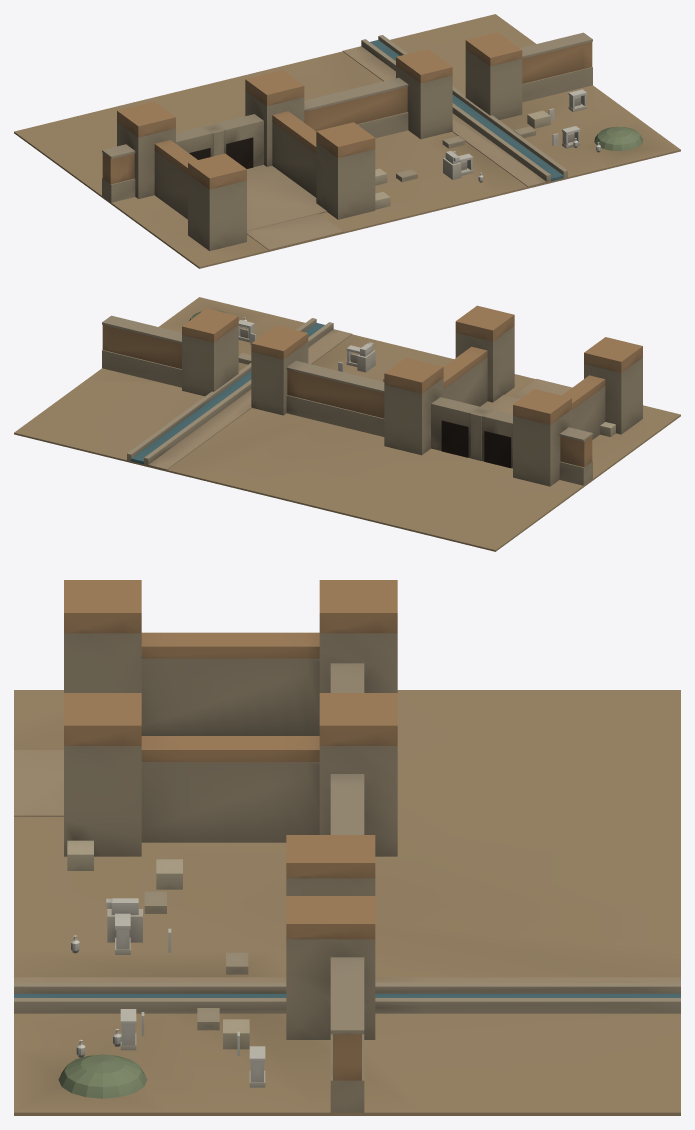
File: dipylon-430.glb
3 views of the same model, one above another, from view 1: azimuth 30°, elevation 25°; view 2: azimuth 150°, elevation 25°; view 3: azimuth 270°, elevation 25° (orthographic). The views are drawn at different scales.
Visible parts, largest first — view 1: p1_walls, p0_ground, p2_graves, p3_refugees; view 2: p1_walls, p0_ground, p2_graves; view 3: p0_ground, p1_walls, p2_graves, p3_refugees.
Part boxes in pixels (<box>): p1_walls: <box>102,32,592,250</box>; p0_ground: <box>14,14,680,268</box>; p2_graves: <box>396,89,643,182</box>; p3_refugees: <box>375,110,550,209</box>; p1_walls: <box>102,305,642,486</box>; p0_ground: <box>14,297,680,551</box>; p2_graves: <box>189,310,384,381</box>; p0_ground: <box>14,690,680,1115</box>; p1_walls: <box>14,580,680,1112</box>; p2_graves: <box>58,891,265,1098</box>; p3_refugees: <box>67,840,249,1049</box>.
Bounding box in the file's own units: 90 × 13.3 × 60.
